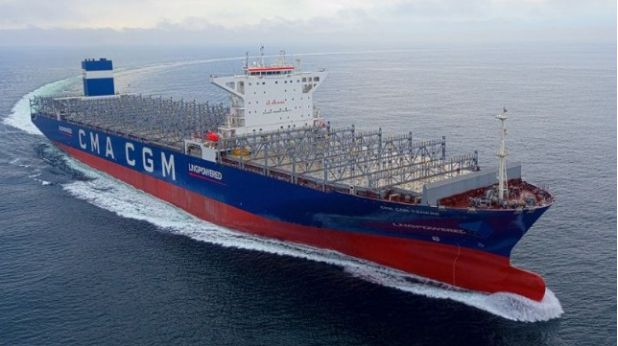Cargoship: (32, 44, 561, 302)
